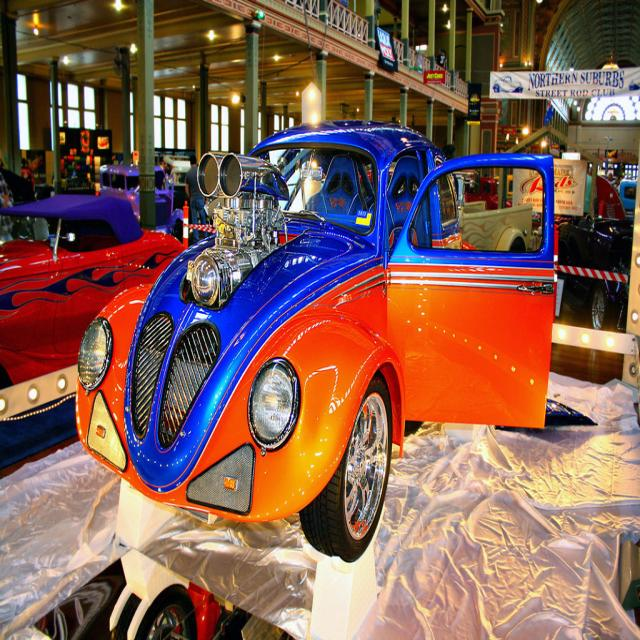car: (74, 113, 555, 563)
